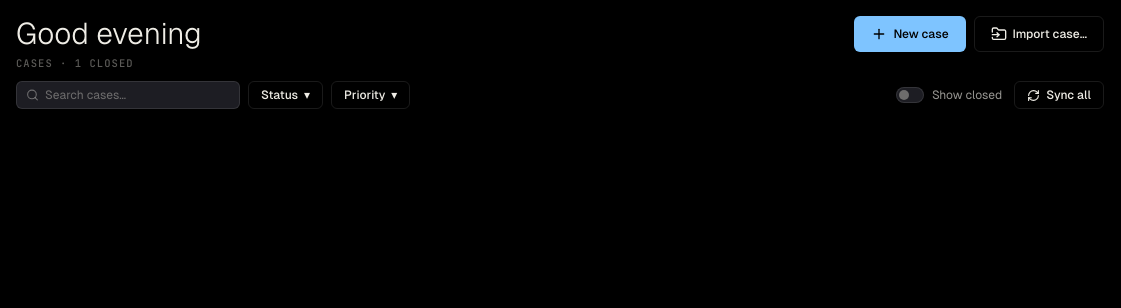
CaseDashboard › shows the resolution alongside a closed status
# hide-closed defaults to on — reveal the closed case first
Click the switch named "Show closed cases" at (949, 95), box [896,87,1002,103]
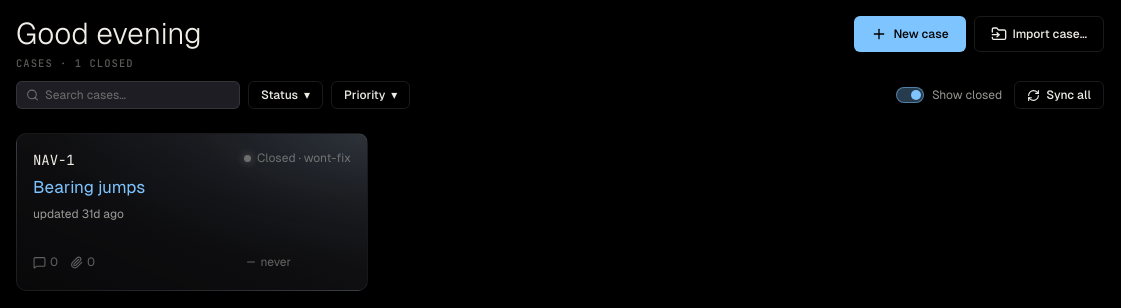
expect the text "Closed · wont-fix" is shown: met, box [244,150,351,166]
